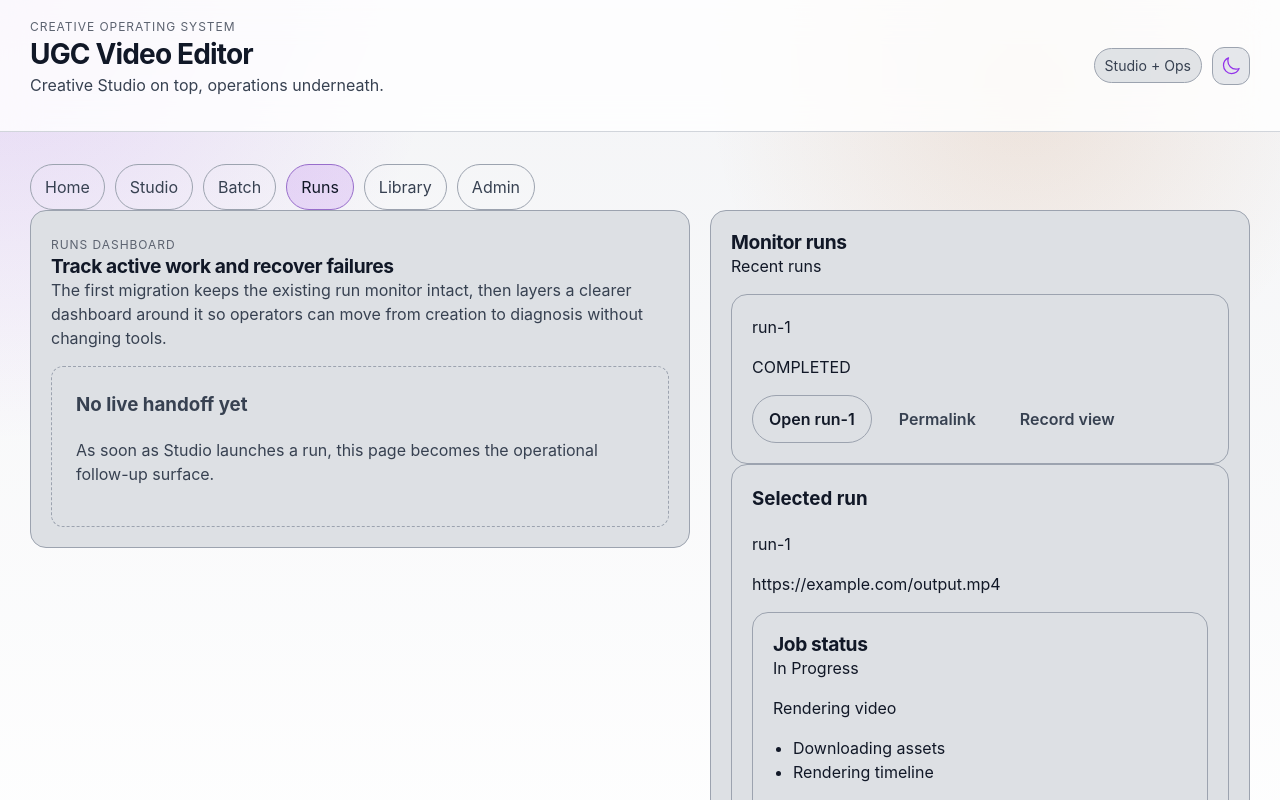
App › blocks preview with zero clips and exposes batch through the new shell
Step 1. Click the link "Studio" → (154, 187), box [115,164,193,210]
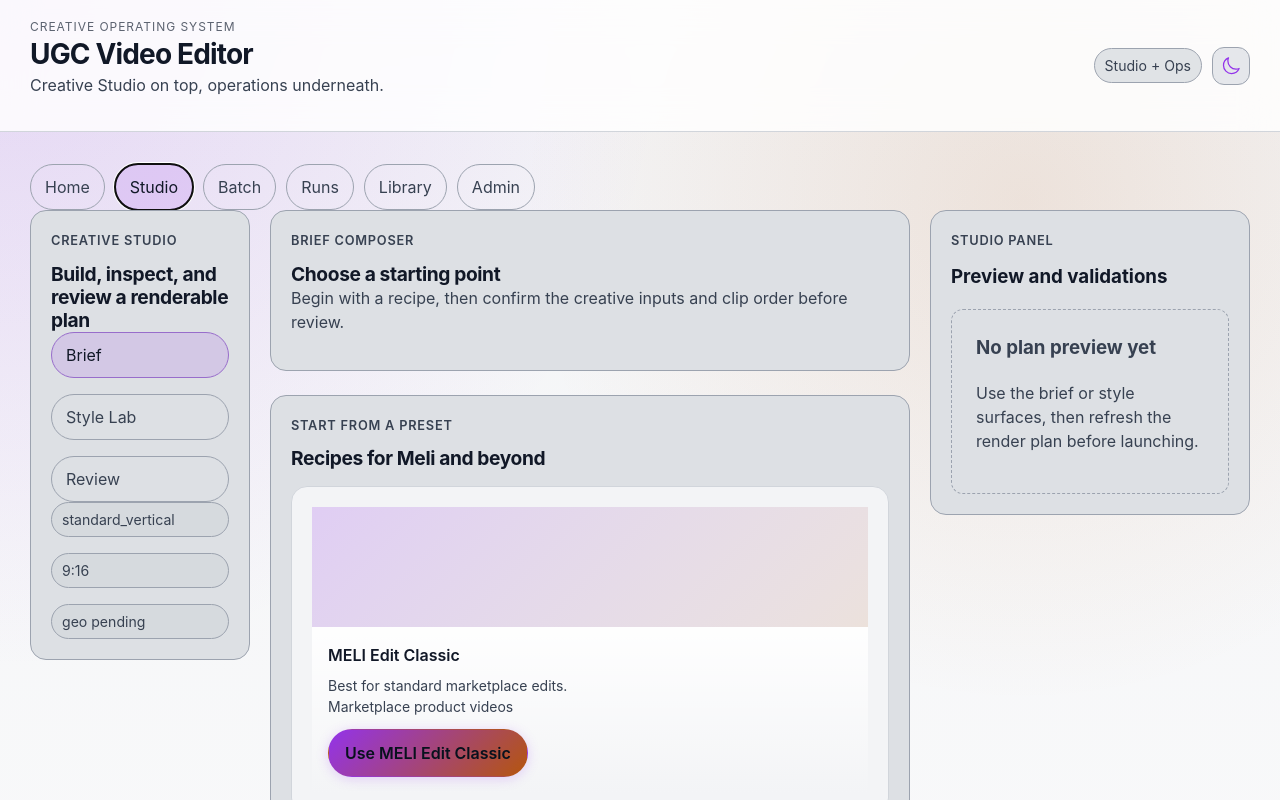
Step 2. Click the button "Use MELI Edit Classic" → (428, 753), box [328,729,528,777]
(page scrolled)
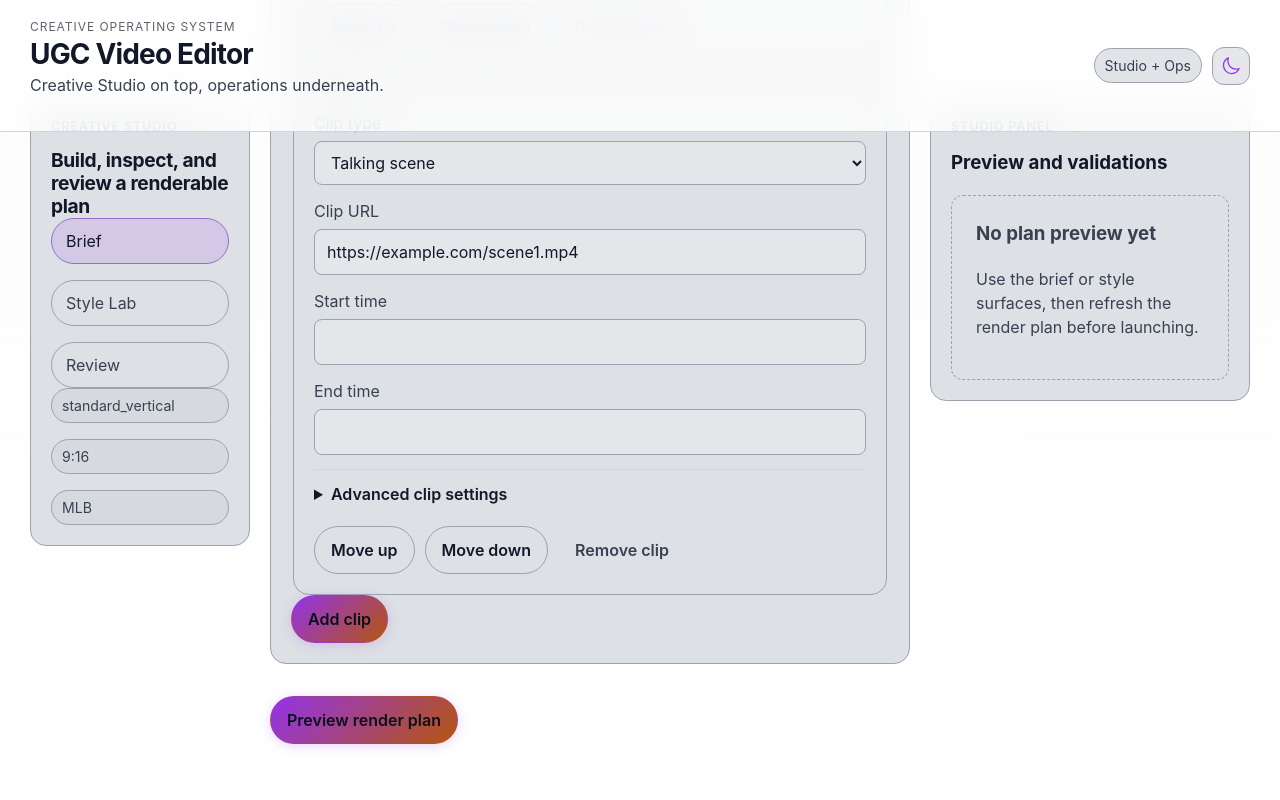
Step 3. Click the button "Remove clip" → (622, 550), box [558,526,686,574]
(page scrolled)
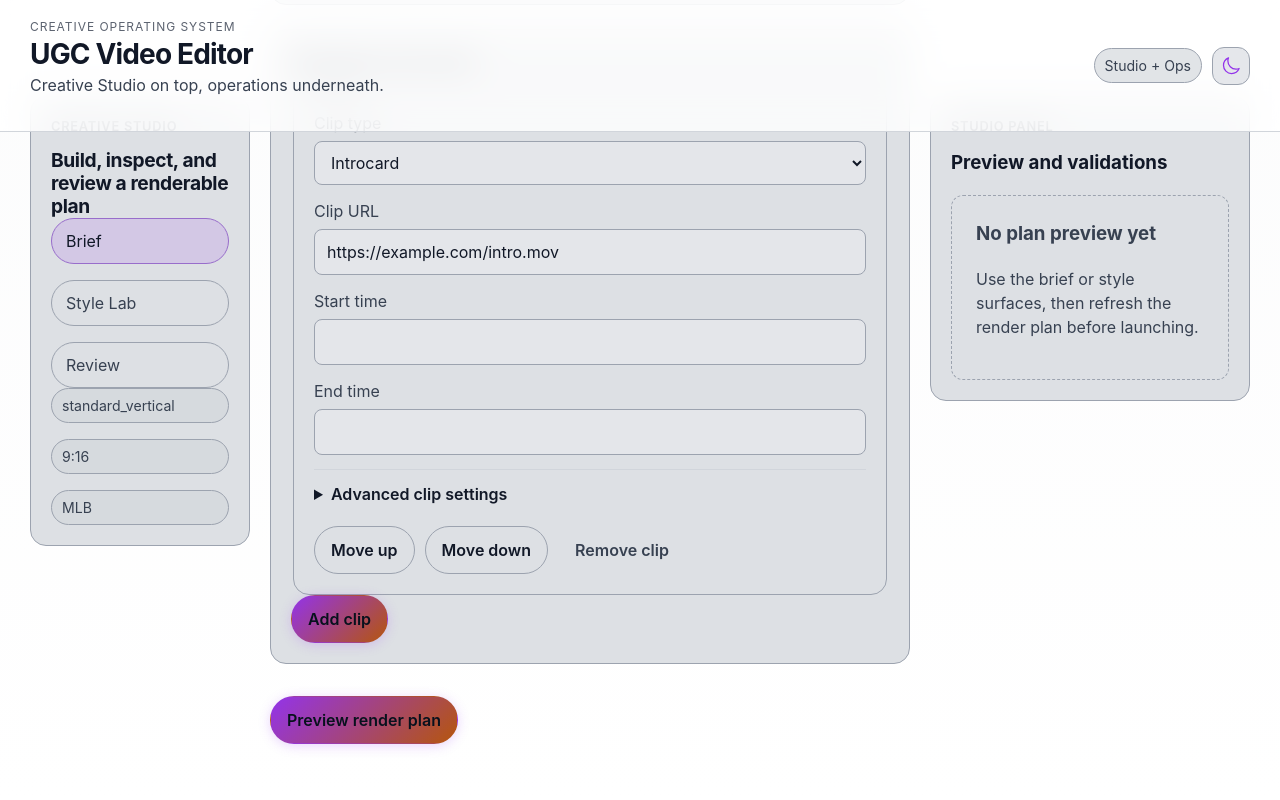
Step 4. Click the button "Remove clip" → (622, 550), box [558,526,686,574]
(page scrolled)
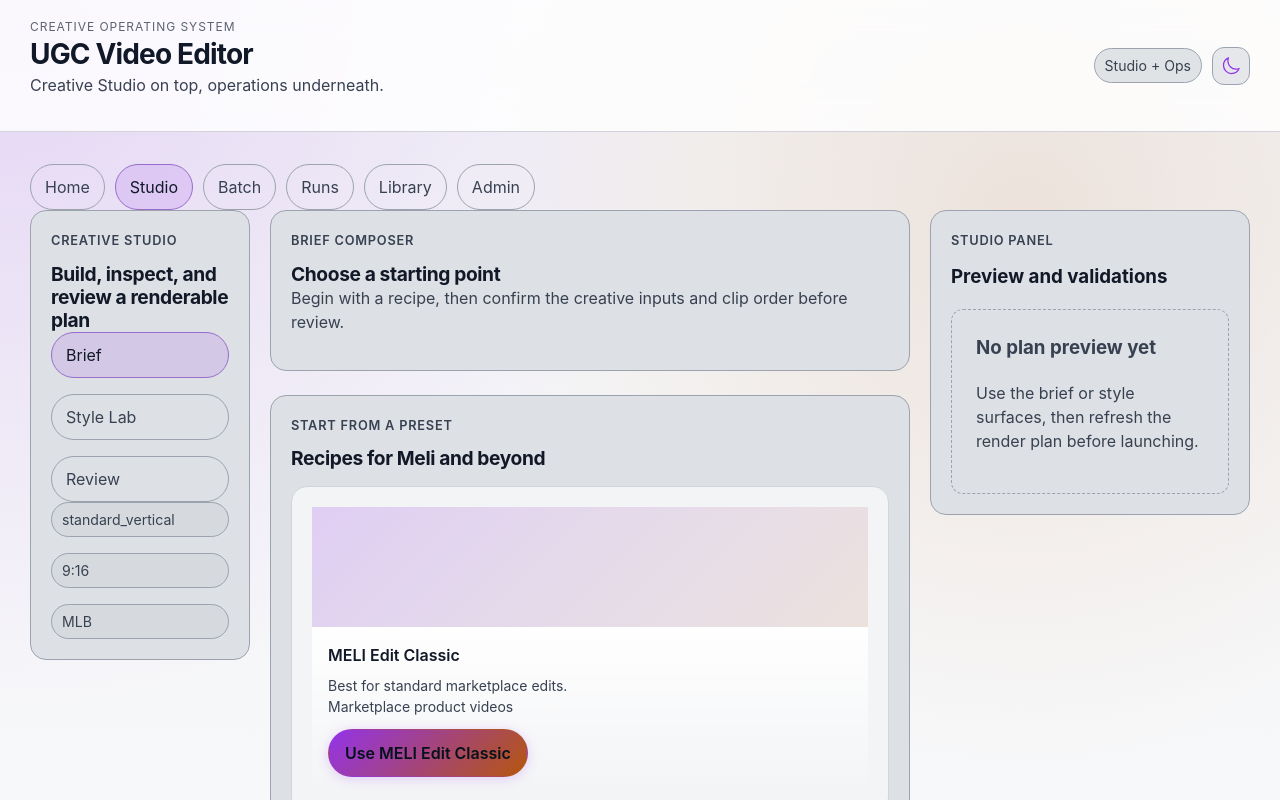
Step 5. Click the link "Batch" → (240, 187), box [203,164,276,210]
(page scrolled)
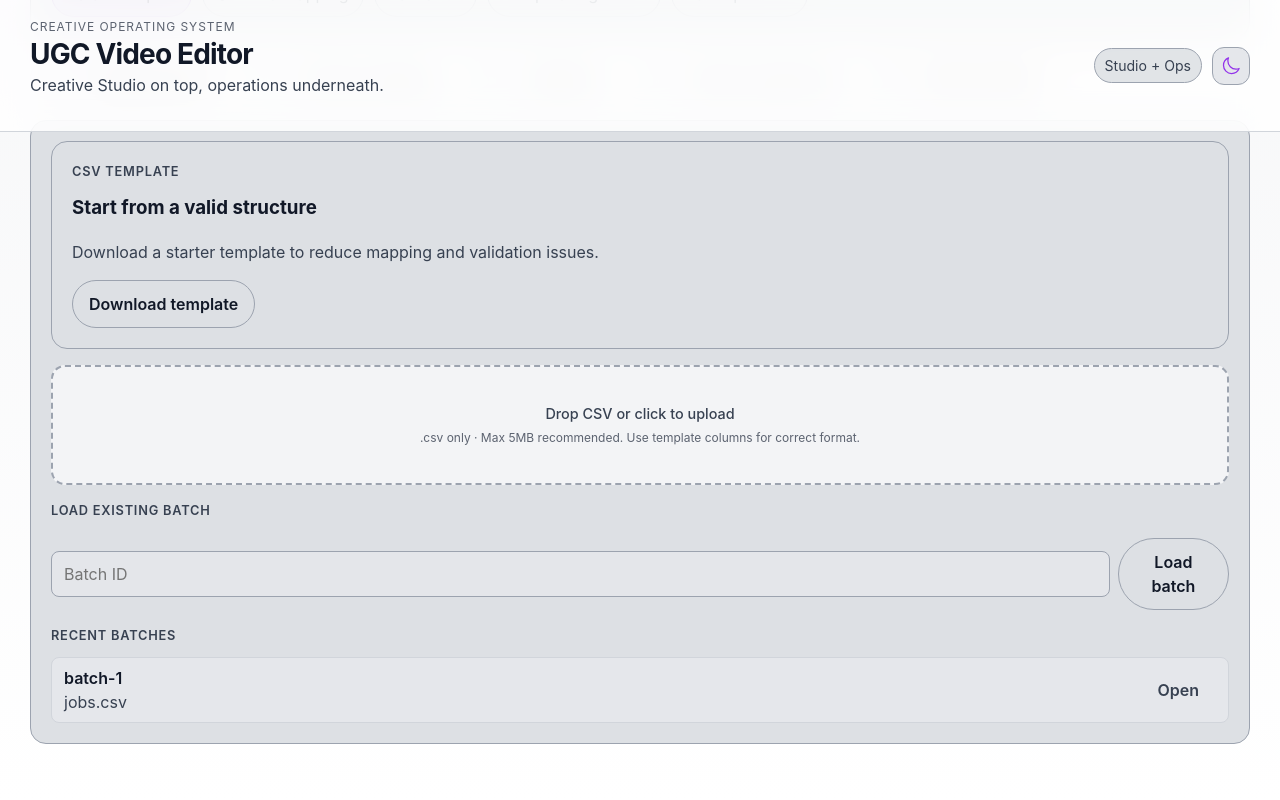
Expected: the text "Drop CSV or click to upload" is shown, [545,403,735,425]
Expected: the text "Load existing batch" is shown, [51,503,210,518]
